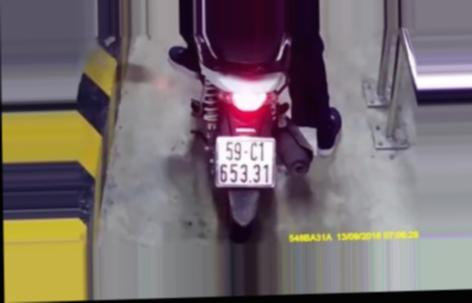License_Plate: (209, 132, 281, 193)
